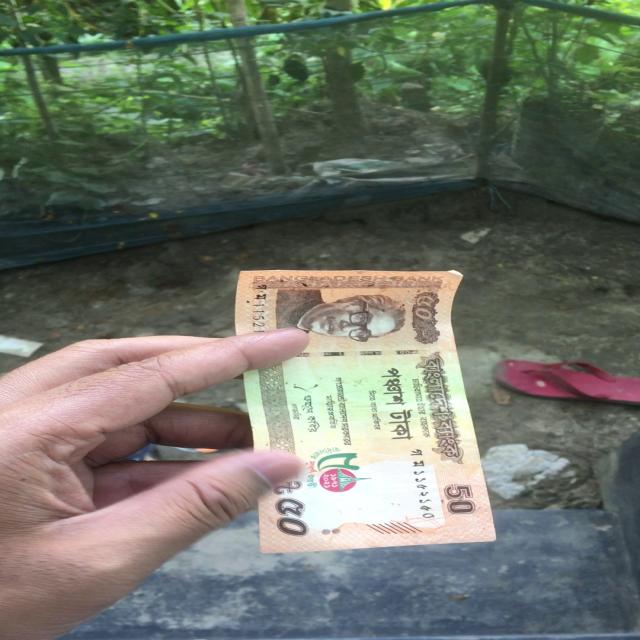Taka: (239, 267, 480, 551)
